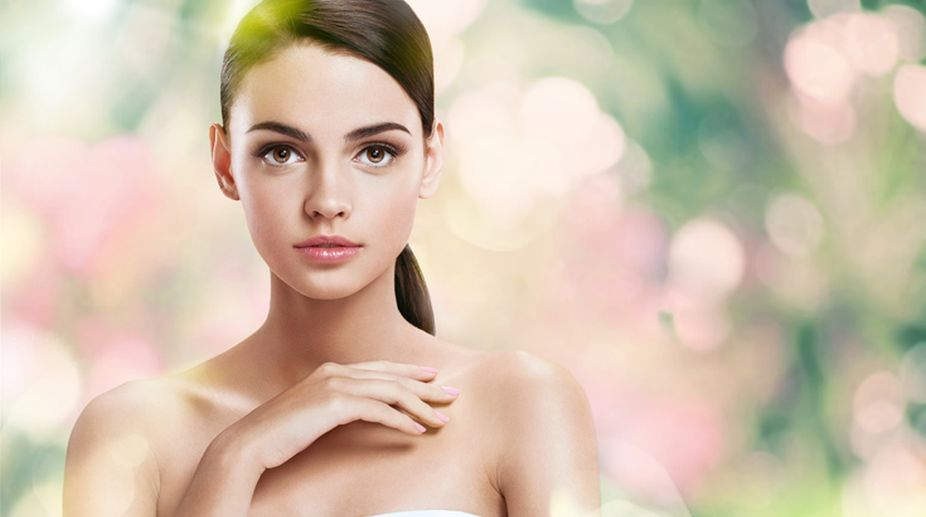women: (187, 3, 463, 345)
